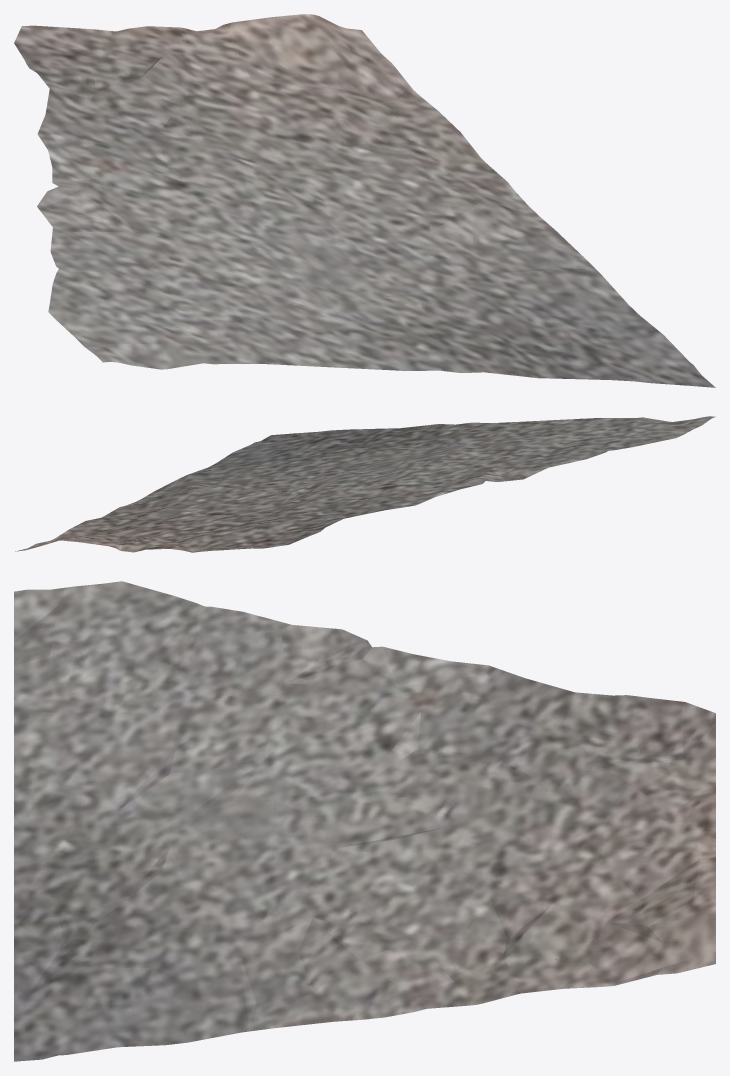
The picture shows the model from 3 angles, top to bottom: view 1: azimuth 30°, elevation 25°; view 2: azimuth 150°, elevation 25°; view 3: azimuth 270°, elevation 25°; orthographic projection. The views are drawn at different scales.
Bounding box in the file's own units: 0.8374 × 0.2421 × 0.8374.
Materials: 2 (2 with a texture image).
